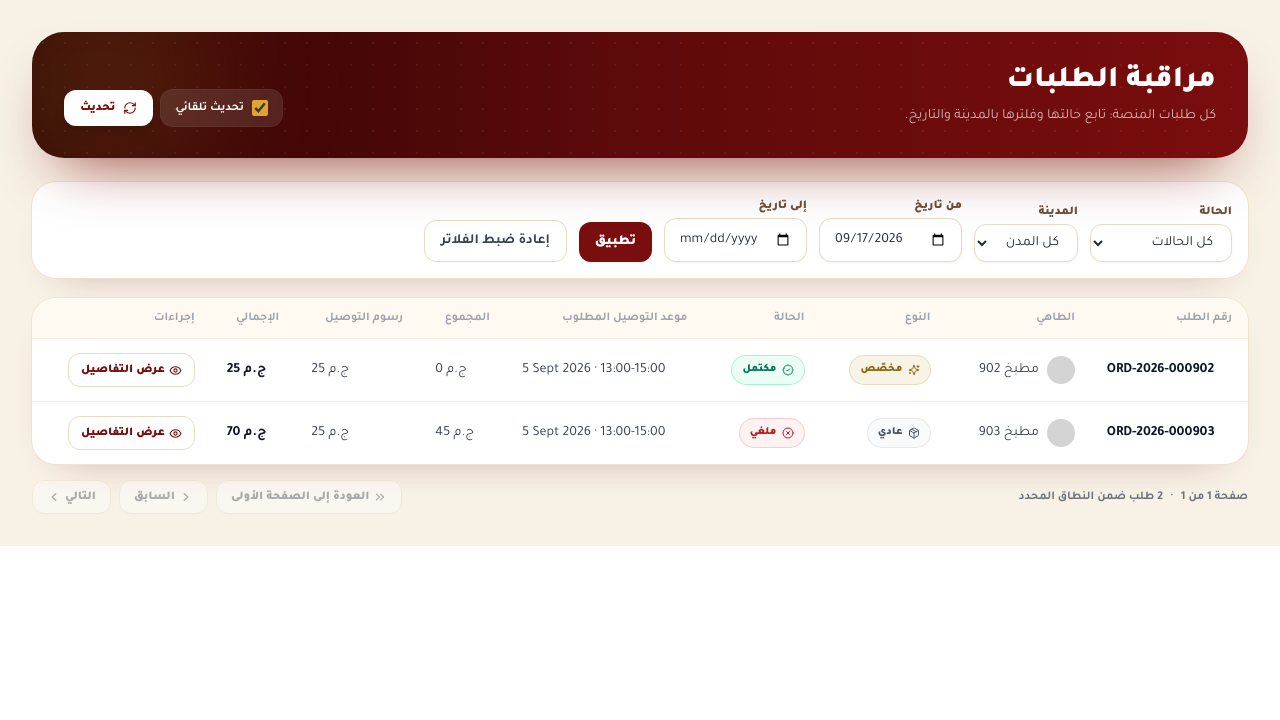
Test: US1 — review the paginated orders list › AC6/AC7: custom and cancelled orders are marked (icon + label), cancel reason reachable
Expected: the text "ORD-2026-000902" is shown, [1091,338,1248,402]
Expected: the text "مخصّص" is shown, [850,356,930,384]
Click the button "عرض التفاصيل" in the row of "ORD-2026-000903" at coordinates (131, 433), box [68,416,195,450]
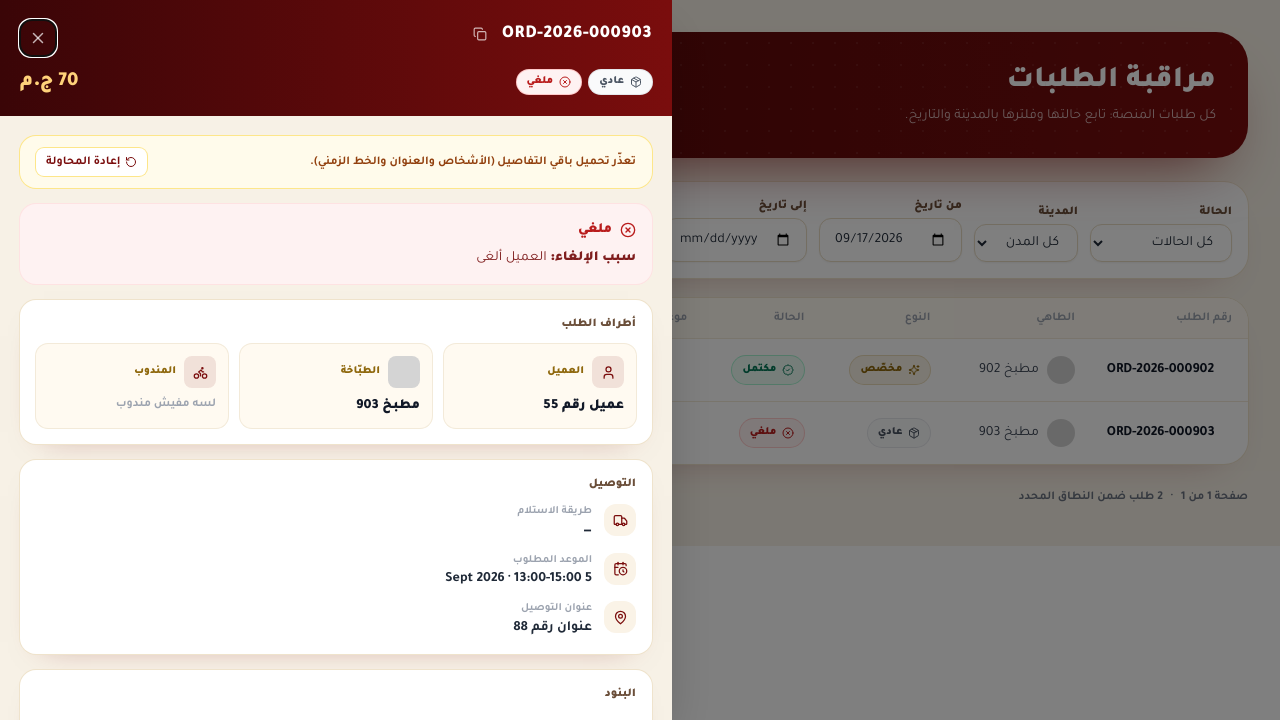
Result: the text "العميل ألغى" is shown at [476,251,547,265]
